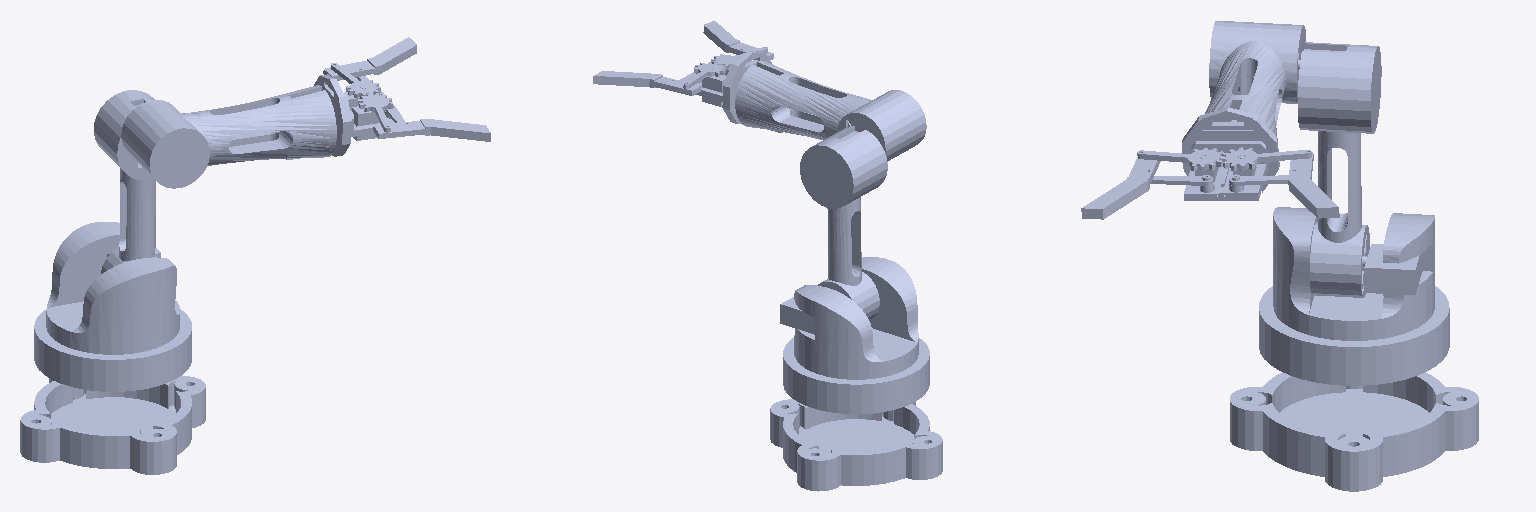
robot.urdf — beetlebot_config:
<?xml version="1.0" encoding="utf-8"?>
<!-- This URDF was automatically created by SolidWorks to URDF Exporter! Originally created by [author] ([email redacted]) 
     Commit Version: 1.5.1-0-g916b5db  Build Version: 1.5.7152.31018
     For more information, please see http://wiki.ros.org/sw_urdf_exporter -->
<robot
  name="beetlebot_config">
  <link
    name="station_fix">
    <inertial>
      <origin
        xyz="3.11610917346876E-15 7.26023035176475E-16 0.0112238440859065"
        rpy="0 0 0" />
      <mass
        value="0.256911694578917" />
      <inertia
        ixx="0.000465416816995494"
        ixy="-1.42854091787919E-18"
        ixz="-2.00978143818083E-18"
        iyy="0.000465416816995493"
        iyz="4.71832691176797E-19"
        izz="0.000891862560221246" />
    </inertial>
    <visual>
      <origin
        xyz="0 0 0"
        rpy="0 0 0" />
      <geometry>
        <mesh
          filename="package://beetlebot_config/meshes/station_fix.STL" />
      </geometry>
      <material
        name="Polyacetic Acid">
        <color
          rgba="0.792156862745098 0.819607843137255 0.933333333333333 1" />
      </material>
    </visual>
    <collision>
      <origin
        xyz="0 0 0"
        rpy="0 0 0" />
      <geometry>
        <mesh
          filename="package://beetlebot_config/meshes/station_fix.STL" />
      </geometry>
    </collision>
  </link>
  <link
    name="station_link">
    <inertial>
      <origin
        xyz="-6.27576271701899E-05 0.0196145463566092 -0.000424757397827129"
        rpy="0 0 0" />
      <mass
        value="0.589476883091643" />
      <inertia
        ixx="0.000760567128250932"
        ixy="8.74797075070958E-07"
        ixz="-3.47984412224442E-06"
        iyy="0.00141398975168861"
        iyz="1.50066491941093E-06"
        izz="0.000806811820665975" />
    </inertial>
    <visual>
      <origin
        xyz="0 0 0"
        rpy="0 0 0" />
      <geometry>
        <mesh
          filename="package://beetlebot_config/meshes/station_link.STL" />
      </geometry>
      <material
        name="Polyacetic Acid">
        <color
          rgba="0.792156862745098 0.819607843137255 0.933333333333333 1" />
      </material>
    </visual>
    <collision>
      <origin
        xyz="0 0 0"
        rpy="0 0 0" />
      <geometry>
        <mesh
          filename="package://beetlebot_config/meshes/station_link.STL" />
      </geometry>
    </collision>
  </link>
  <joint
    name="j_station_fix_1"
    type="fixed">
    <origin
      xyz="0 0 0.03"
      rpy="1.5707963267949 0 0" />
    <parent
      link="station_fix" />
    <child
      link="station_link" />
    <axis
      xyz="0 0 0" />
  </joint>
  <link
    name="base_link">
    <inertial>
      <origin
        xyz="0.00160850098514826 0.0457202336942491 -0.000275136248245898"
        rpy="0 0 0" />
      <mass
        value="0.477863932835459" />
      <inertia
        ixx="0.000715530893722255"
        ixy="-5.88825930396343E-06"
        ixz="3.24528725453954E-06"
        iyy="0.000944423238582335"
        iyz="-1.09792603269249E-05"
        izz="0.000514906612293268" />
    </inertial>
    <visual>
      <origin
        xyz="0 0 0"
        rpy="0 0 0" />
      <geometry>
        <mesh
          filename="package://beetlebot_config/meshes/base_link.STL" />
      </geometry>
      <material
        name="Polyacetic Acid">
        <color
          rgba="0.792156862745098 0.819607843137255 0.933333333333333 1" />
      </material>
    </visual>
    <collision>
      <origin
        xyz="0 0 0"
        rpy="0 0 0" />
      <geometry>
        <mesh
          filename="package://beetlebot_config/meshes/base_link.STL" />
      </geometry>
    </collision>
  </link>
  <joint
    name="j_base_2"
    type="revolute">
    <origin
      xyz="0 0.0400000000000001 0"
      rpy="0 -0.0481306187963811 0" />
    <parent
      link="station_link" />
    <child
      link="base_link" />
    <axis
      xyz="0 1 0" />
    <limit
      lower="0"
      upper="6.28"
      effort="0"
      velocity="0" />
  </joint>
  <link
    name="lower_arm_link">
    <inertial>
      <origin
        xyz="0.0844732819957709 3.87228858027278E-07 -0.00722999569778167"
        rpy="0 0 0" />
      <mass
        value="0.23405566810505" />
      <inertia
        ixx="7.82643129562218E-05"
        ixy="3.236498985421E-11"
        ixz="-2.57822406717393E-05"
        iyy="0.000754327218890927"
        iyz="-2.82736466820899E-11"
        izz="0.000762796916110567" />
    </inertial>
    <visual>
      <origin
        xyz="0 0 0"
        rpy="0 0 0" />
      <geometry>
        <mesh
          filename="package://beetlebot_config/meshes/lower_arm_link.STL" />
      </geometry>
      <material
        name="Polyacetic Acid">
        <color
          rgba="0.792156862745098 0.819607843137255 0.933333333333333 1" />
      </material>
    </visual>
    <collision>
      <origin
        xyz="0 0 0"
        rpy="0 0 0" />
      <geometry>
        <mesh
          filename="package://beetlebot_config/meshes/lower_arm_link.STL" />
      </geometry>
    </collision>
  </link>
  <joint
    name="j_lower_arm_3"
    type="revolute">
    <origin
      xyz="0.0179464032452943 0.072 0.00138802397577195"
      rpy="3.06441052978367 -0.00103661850876255 1.55739300106752" />
    <parent
      link="base_link" />
    <child
      link="lower_arm_link" />
    <axis
      xyz="0 0 1" />
    <limit
      lower="-1.571"
      upper="1.571"
      effort="0"
      velocity="0" />
  </joint>
  <link
    name="upper_arm_link">
    <inertial>
      <origin
        xyz="0.0508388378058994 0.000160283371051284 -0.0328711979191741"
        rpy="0 0 0" />
      <mass
        value="0.296283683304087" />
      <inertia
        ixx="0.000115975555377915"
        ixy="9.78065684116685E-06"
        ixz="-1.19389826620409E-05"
        iyy="0.000775513514705328"
        iyz="1.21367891703259E-07"
        izz="0.000764839863384615" />
    </inertial>
    <visual>
      <origin
        xyz="0 0 0"
        rpy="0 0 0" />
      <geometry>
        <mesh
          filename="package://beetlebot_config/meshes/upper_arm_link.STL" />
      </geometry>
      <material
        name="Polyacetic Acid">
        <color
          rgba="0.792156862745098 0.819607843137255 0.933333333333333 1" />
      </material>
    </visual>
    <collision>
      <origin
        xyz="0 0 0"
        rpy="0 0 0" />
      <geometry>
        <mesh
          filename="package://beetlebot_config/meshes/upper_arm_link.STL" />
      </geometry>
    </collision>
  </link>
  <joint
    name="j_upper_arm_3"
    type="revolute">
    <origin
      xyz="0.146 0 -0.0310108840623248"
      rpy="0 0 1.5890407738074" />
    <parent
      link="lower_arm_link" />
    <child
      link="upper_arm_link" />
    <axis
      xyz="0 0 -1" />
    <limit
      lower="-1.571"
      upper="1.571"
      effort="0"
      velocity="0" />
  </joint>
  <link
    name="gripper_bracket_link">
    <inertial>
      <origin
        xyz="0.0134815241947488 0.00126682689945751 6.24500451351651E-17"
        rpy="0 0 0" />
      <mass
        value="0.0230557222476345" />
      <inertia
        ixx="1.19872831970487E-05"
        ixy="-3.47217067753461E-08"
        ixz="-2.06464280893236E-21"
        iyy="7.19813017359127E-06"
        iyz="8.73502726855997E-22"
        izz="5.01491185136396E-06" />
    </inertial>
    <visual>
      <origin
        xyz="0 0 0"
        rpy="0 0 0" />
      <geometry>
        <mesh
          filename="package://beetlebot_config/meshes/gripper_bracket_link.STL" />
      </geometry>
      <material
        name="Polyacetic Acid">
        <color
          rgba="0.792156862745098 0.819607843137255 0.933333333333333 1" />
      </material>
    </visual>
    <collision>
      <origin
        xyz="0 0 0"
        rpy="0 0 0" />
      <geometry>
        <mesh
          filename="package://beetlebot_config/meshes/gripper_bracket_link.STL" />
      </geometry>
    </collision>
  </link>
  <joint
    name="j_gripper_4"
    type="revolute">
    <origin
      xyz="0.134344425945384 -0.004 -0.032489115937681"
      rpy="-3.07645277190694 0 0" />
    <parent
      link="upper_arm_link" />
    <child
      link="gripper_bracket_link" />
    <axis
      xyz="1 0 0" />
    <limit
      lower="0"
      upper="6.28"
      effort="0"
      velocity="0" />
  </joint>
  <link
    name="gripper_link">
    <inertial>
      <origin
        xyz="-1.45716771982052E-16 -0.00300756403030622 0.0218545062877276"
        rpy="0 0 0" />
      <mass
        value="0.0305917119417462" />
      <inertia
        ixx="6.74812510296361E-06"
        ixy="-1.77347523331369E-21"
        ixz="3.97046694025453E-21"
        iyy="9.20350485894725E-06"
        iyz="5.6571832881932E-07"
        izz="4.91224093455915E-06" />
    </inertial>
    <visual>
      <origin
        xyz="0 0 0"
        rpy="0 0 0" />
      <geometry>
        <mesh
          filename="package://beetlebot_config/meshes/gripper_link.STL" />
      </geometry>
      <material
        name="Polyacetic Acid">
        <color
          rgba="0.792156862745098 0.819607843137255 0.933333333333333 1" />
      </material>
    </visual>
    <collision>
      <origin
        xyz="0 0 0"
        rpy="0 0 0" />
      <geometry>
        <mesh
          filename="package://beetlebot_config/meshes/gripper_link.STL" />
      </geometry>
    </collision>
  </link>
  <joint
    name="j_gripper"
    type="fixed">
    <origin
      xyz="0.017656 0 0"
      rpy="0 1.5708 0" />
    <parent
      link="gripper_bracket_link" />
    <child
      link="gripper_link" />
    <axis
      xyz="0 0 0" />
    <limit
      lower="-0.3"
      upper="1"
      effort="0"
      velocity="0" />
  </joint>
  <link
    name="gripper_claw_1">
    <inertial>
      <origin
        xyz="0.015373963476876 0.0135129222378288 -0.0434257363671942"
        rpy="0 0 0" />
      <mass
        value="0.0124822627218268" />
      <inertia
        ixx="2.71912034699604E-06"
        ixy="-2.82909004382936E-19"
        ixz="2.43462823465559E-06"
        iyy="7.1424415229914E-06"
        iyz="-6.43400932778446E-19"
        izz="4.50774961253773E-06" />
    </inertial>
    <visual>
      <origin
        xyz="0 0 0"
        rpy="0 0 0" />
      <geometry>
        <mesh
          filename="package://beetlebot_config/meshes/gripper_claw_1.STL" />
      </geometry>
      <material
        name="Polyacetic Acid">
        <color
          rgba="0.792156862745098 0.819607843137255 0.933333333333333 1" />
      </material>
    </visual>
    <collision>
      <origin
        xyz="0 0 0"
        rpy="0 0 0" />
      <geometry>
        <mesh
          filename="package://beetlebot_config/meshes/gripper_claw_1.STL" />
      </geometry>
    </collision>
  </link>
  <joint
    name="j_gripper_claw_1"
    type="revolute">
    <origin
      xyz="0.013 -0.0047503 0.029"
      rpy="3.1416 -1.3296 -3.1416" />
    <parent
      link="gripper_link" />
    <child
      link="gripper_claw_1" />
    <axis
      xyz="0 1 0" />
    <limit
      lower="0"
      upper="1"
      effort="0"
      velocity="0" />
    <mimic
      joint="j_gripper_claw_2"
      multiplier="-1"
      offset="0" />
  </joint>
  <link
    name="gripper_claw_2">
    <inertial>
      <origin
        xyz="0.0169294358053282 0.00876263325951088 -0.0426866690303994"
        rpy="0 0 0" />
      <mass
        value="0.0124821815216513" />
      <inertia
        ixx="5.89319398056009E-06"
        ixy="2.31989089363152E-18"
        ixz="-1.23196532768669E-06"
        iyy="7.14175843069795E-06"
        iyz="-3.88862635219303E-17"
        izz="1.33299267012417E-06" />
    </inertial>
    <visual>
      <origin
        xyz="0 0 0"
        rpy="0 0 0" />
      <geometry>
        <mesh
          filename="package://beetlebot_config/meshes/gripper_claw_2.STL" />
      </geometry>
      <material
        name="">
        <color
          rgba="0.792156862745098 0.819607843137255 0.933333333333333 1" />
      </material>
    </visual>
    <collision>
      <origin
        xyz="0 0 0"
        rpy="0 0 0" />
      <geometry>
        <mesh
          filename="package://beetlebot_config/meshes/gripper_claw_2.STL" />
      </geometry>
    </collision>
  </link>
  <joint
    name="j_gripper_claw_2"
    type="revolute">
    <origin
      xyz="-0.013 0 0.029"
      rpy="-3.1416 0.61713 3.1416" />
    <parent
      link="gripper_link" />
    <child
      link="gripper_claw_2" />
    <axis
      xyz="0 1 0" />
    <limit
      lower="0"
      upper="0.8"
      effort="0"
      velocity="0" />
  </joint>
</robot>

--- Render facts (derived) ---
Views: 3 orthographic renders of the robot side by side, from view 1: azimuth 30°, elevation 25°; view 2: azimuth 150°, elevation 25°; view 3: azimuth 270°, elevation 25°.
Robot: beetlebot_config — 9 links, 8 joints (6 revolute, 2 fixed); root link station_fix; default pose: all joints at 0.
Visible links, largest first — view 1: base_link, station_fix, upper_arm_link, lower_arm_link, gripper_claw_2, gripper_claw_1, gripper_bracket_link, gripper_link; view 2: base_link, station_fix, upper_arm_link, lower_arm_link, gripper_claw_1, gripper_bracket_link, gripper_claw_2, gripper_link; view 3: base_link, station_fix, lower_arm_link, upper_arm_link, gripper_claw_2, gripper_claw_1, gripper_bracket_link, gripper_link.
Link boxes in pixels (left/top/right/bottom): base_link: left=34, top=222, right=191, bottom=391; station_fix: left=20, top=376, right=205, bottom=474; upper_arm_link: left=121, top=85, right=336, bottom=188; lower_arm_link: left=94, top=90, right=157, bottom=273; gripper_claw_2: left=358, top=93, right=490, bottom=141; gripper_claw_1: left=323, top=37, right=416, bottom=98; gripper_bracket_link: left=314, top=74, right=351, bottom=156; gripper_link: left=344, top=86, right=394, bottom=140; base_link: left=780, top=257, right=929, bottom=413; station_fix: left=770, top=399, right=942, bottom=491; upper_arm_link: left=735, top=61, right=926, bottom=161; lower_arm_link: left=800, top=126, right=887, bottom=319; gripper_claw_1: left=593, top=62, right=726, bottom=95; gripper_bracket_link: left=722, top=51, right=771, bottom=123; gripper_claw_2: left=703, top=21, right=773, bottom=69; gripper_link: left=695, top=59, right=730, bottom=106; base_link: left=1259, top=207, right=1449, bottom=385; station_fix: left=1230, top=372, right=1478, bottom=491; lower_arm_link: left=1298, top=42, right=1381, bottom=297; upper_arm_link: left=1205, top=21, right=1305, bottom=136; gripper_claw_2: left=1081, top=148, right=1225, bottom=219; gripper_claw_1: left=1221, top=147, right=1339, bottom=218; gripper_bracket_link: left=1182, top=107, right=1279, bottom=192; gripper_link: left=1184, top=141, right=1267, bottom=200.
Size in the robot's own frame: 0.3593 by 0.2704 by 0.3215 metres.
Meshes: 9 distinct files referenced, 8 mesh visuals loaded (8 binary STL); not drawn: 1 (reference not matched to a file when rendering).
